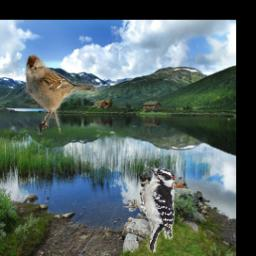Sparrow: (24, 54, 98, 136)
Woodpecker: (122, 166, 177, 253)
